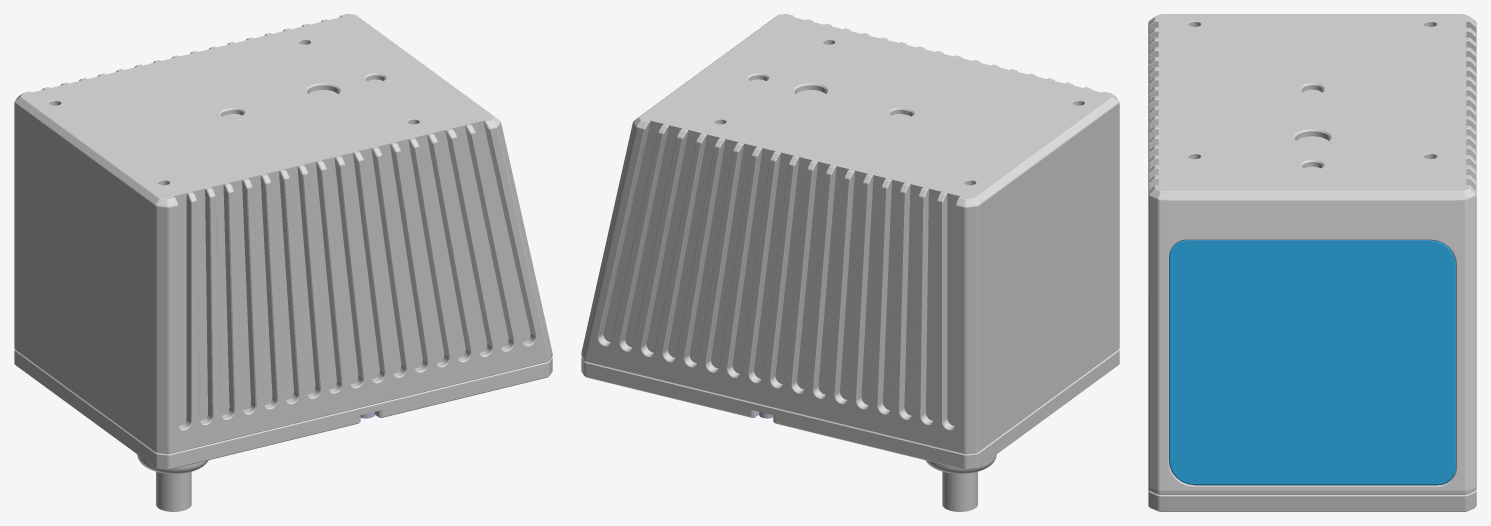
The model's file is mid_70.dae.
3 renders of one model, left to right at view 1: azimuth 30°, elevation 25°; view 2: azimuth 150°, elevation 25°; view 3: azimuth 270°, elevation 25°, orthographic. The views are drawn at different scales.
Parts seen in each view (by area): view 1: mid-70; view 2: mid-70; view 3: mid-70.
Part boxes in pixels (x1=…): mid-70: x1=14, y1=14, x2=552, y2=511; mid-70: x1=581, y1=14, x2=1119, y2=511; mid-70: x1=1148, y1=14, x2=1476, y2=511.
Bounding box in the file's own units: 0.097 × 0.064 × 0.0881.
